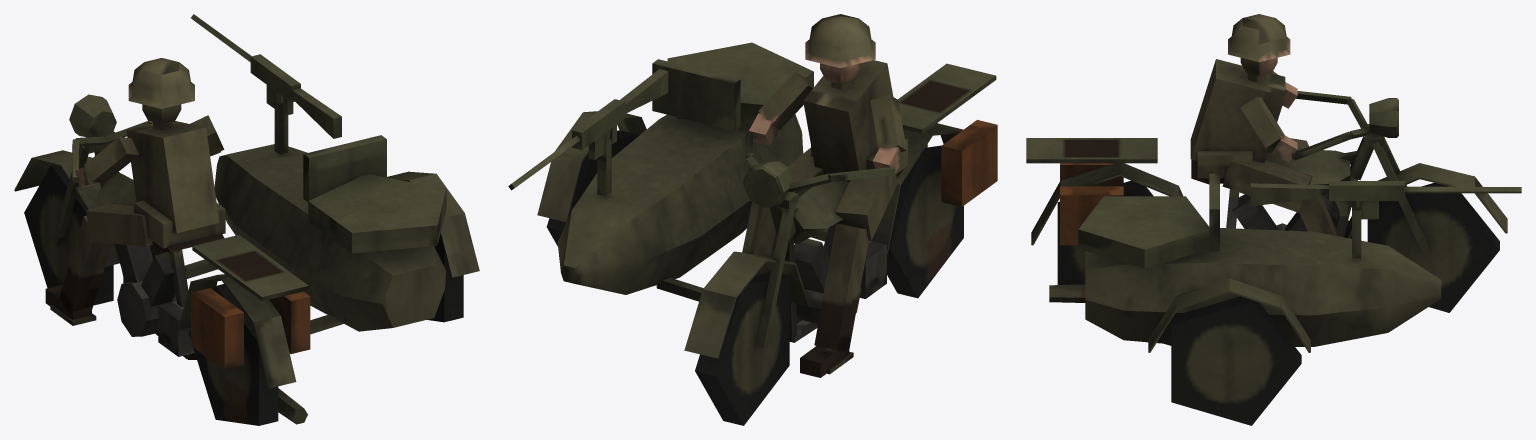
File: SOKOL1000_LOW.fbx
3 views of the same model, side by side, from view 1: azimuth 30°, elevation 25°; view 2: azimuth 150°, elevation 25°; view 3: azimuth 270°, elevation 25° (orthographic). The views are drawn at different scales.
Parts seen in each view (by area): view 1: Chassis, Motard, Axis, Roue_03, Roue_Droite_01, Axe_Canon_01, Roue_02, Canon_01; view 2: Chassis, Motard, Axis, Roue_Droite_01, Roue_03, Axe_Canon_01, Roue_02, Canon_01; view 3: Chassis, Motard, Roue_02, Roue_Droite_01, Axis, Axe_Canon_01, Roue_03, Canon_01.
Boxes of the visible parts, x1,y1,x2,y2 form: Chassis: (50, 100, 479, 424); Motard: (45, 58, 225, 319); Axis: (14, 94, 152, 266); Roue_03: (189, 284, 278, 425); Roue_Droite_01: (24, 165, 113, 305); Axe_Canon_01: (250, 54, 341, 138); Roue_02: (427, 235, 463, 322); Canon_01: (191, 14, 251, 62); Chassis: (537, 42, 997, 374); Motard: (749, 14, 907, 377); Axis: (684, 132, 895, 358); Roue_Droite_01: (695, 273, 789, 425); Roue_03: (887, 145, 963, 298); Axe_Canon_01: (572, 69, 668, 160); Roue_02: (546, 130, 639, 246); Canon_01: (508, 135, 580, 190); Chassis: (1026, 136, 1441, 352); Motard: (1190, 14, 1351, 238); Roue_02: (1171, 296, 1301, 425); Roue_Droite_01: (1367, 182, 1499, 312); Axis: (1291, 91, 1507, 255); Axe_Canon_01: (1250, 181, 1405, 219); Roue_03: (1057, 180, 1153, 284); Canon_01: (1405, 186, 1521, 193).
Size of the model in its own units: 169 by 234 by 151.
Materials: 1 (1 with a texture image).
